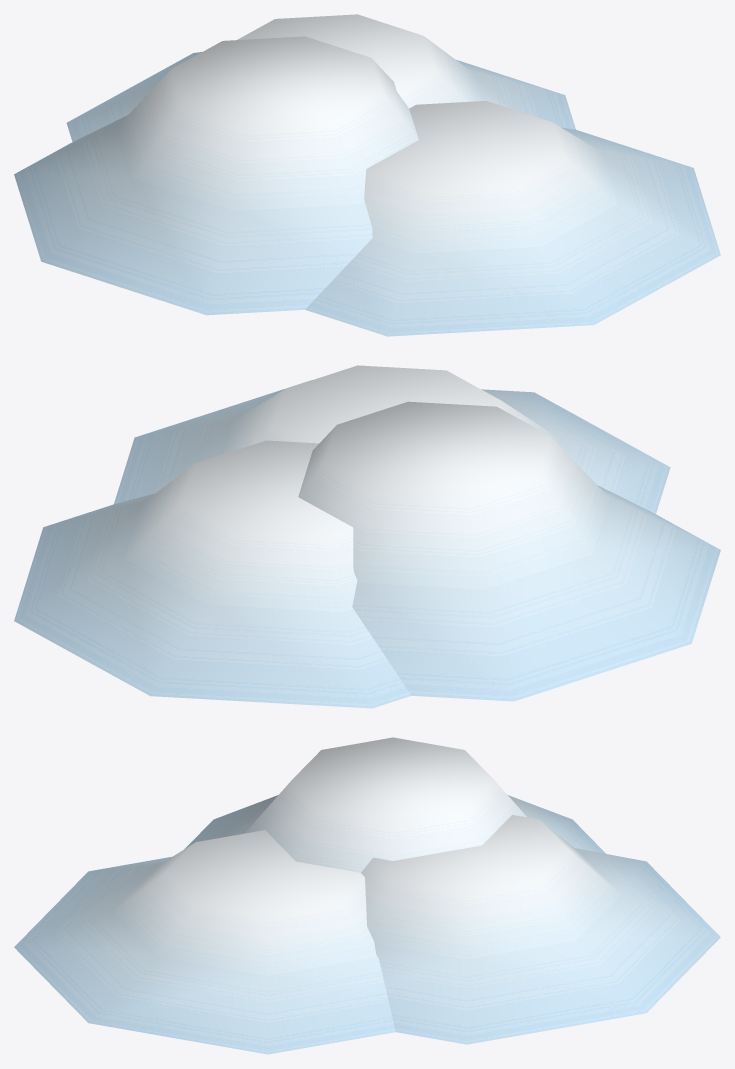
The model's file is snow-pile.glb.
3 views of the same model, one above another, from view 1: azimuth 30°, elevation 25°; view 2: azimuth 150°, elevation 25°; view 3: azimuth 270°, elevation 25° (orthographic). The views are drawn at different scales.
Visible parts, largest first — view 1: snow-pile; view 2: snow-pile; view 3: snow-pile.
Boxes of the visible parts, left/top/right/bottom form: snow-pile: left=14, top=14, right=720, bottom=336; snow-pile: left=14, top=365, right=720, bottom=708; snow-pile: left=14, top=737, right=720, bottom=1054.
Size of the model in its own units: 2.98 by 0.6 by 3.34.
1 material, 1 textured.
